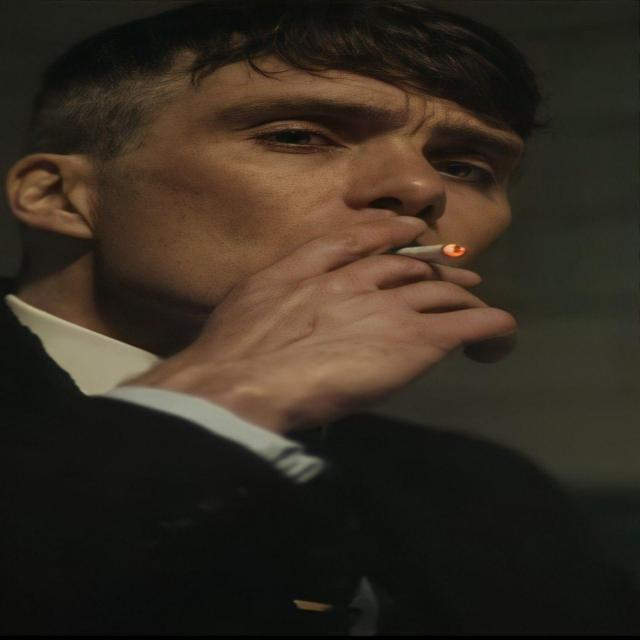cigarette: (364, 233, 498, 280)
